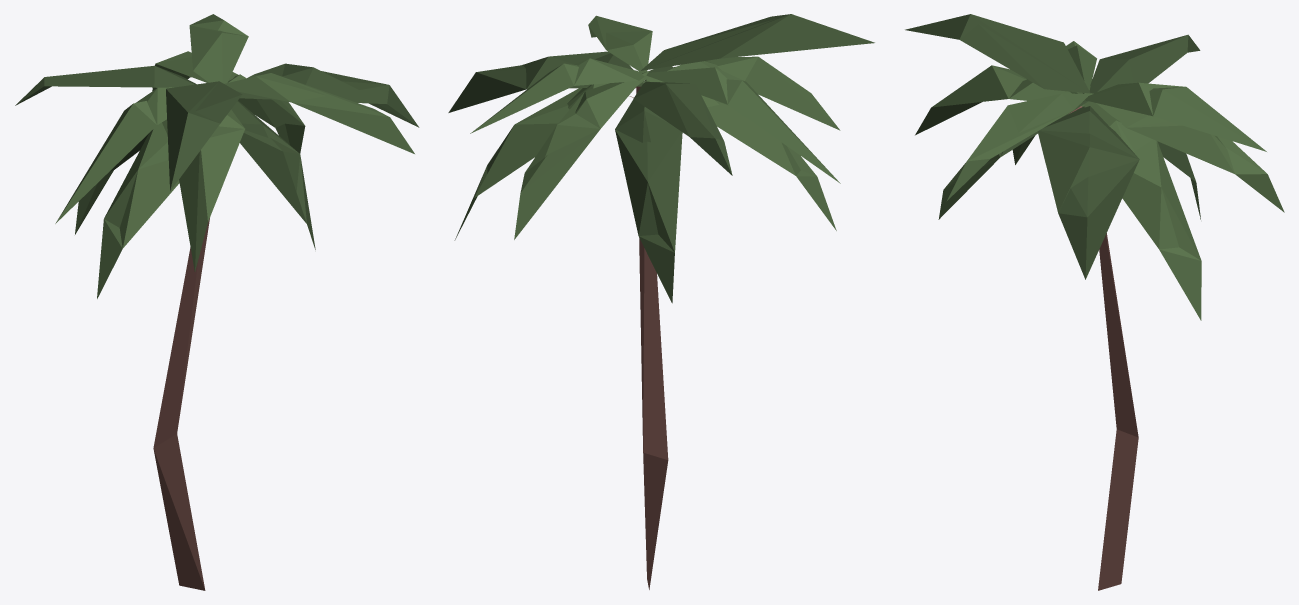
The model's file is PalmTree_3.lod3.glb.
3 views of the same model, side by side, from view 1: azimuth 30°, elevation 25°; view 2: azimuth 150°, elevation 25°; view 3: azimuth 270°, elevation 25° (orthographic).
Parts seen in each view (by area): view 1: PalmTree_3; view 2: PalmTree_3; view 3: PalmTree_3.
Boxes of the visible parts, x1,y1,x2,y2 form: PalmTree_3: (15,14,419,590); PalmTree_3: (448,14,874,589); PalmTree_3: (905,14,1284,590).
Size of the model in its own units: 2.88 by 3.94 by 2.53.
